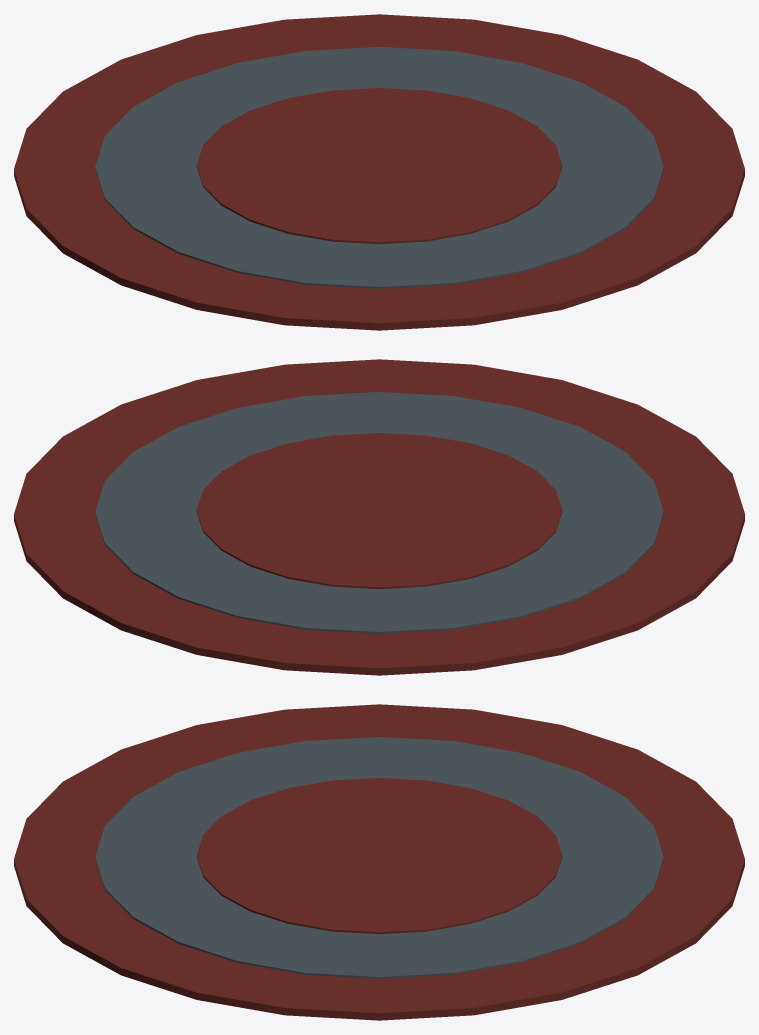
The model's file is living_rug_round.glb.
The picture shows the model from 3 angles, top to bottom: view 1: azimuth 30°, elevation 25°; view 2: azimuth 150°, elevation 25°; view 3: azimuth 270°, elevation 25°; orthographic projection.
Parts seen in each view (by area): view 1: sw5e_int_living_rug_round; view 2: sw5e_int_living_rug_round; view 3: sw5e_int_living_rug_round.
Boxes of the visible parts, left/top/right/bottom form: sw5e_int_living_rug_round: left=14, top=14, right=744, bottom=330; sw5e_int_living_rug_round: left=14, top=359, right=744, bottom=675; sw5e_int_living_rug_round: left=14, top=704, right=744, bottom=1020.
Bounding box in the file's own units: 1.8 × 0.03 × 1.8.
